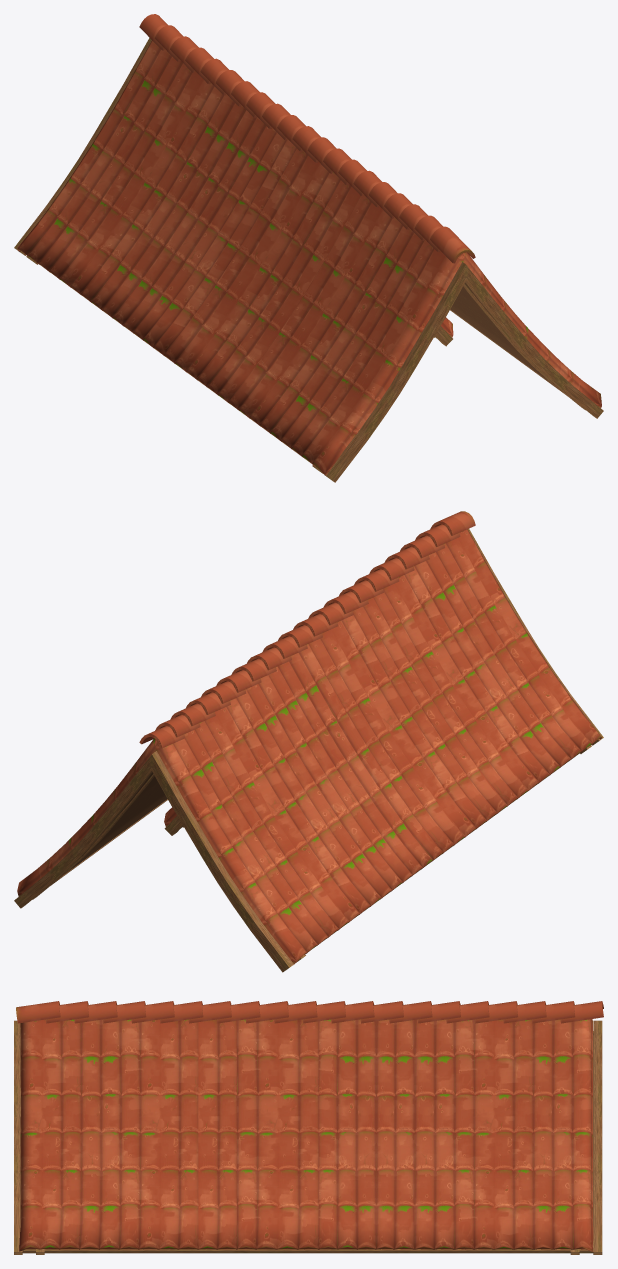
File: village.glb
The picture shows the model from 3 angles, top to bottom: view 1: azimuth 30°, elevation 25°; view 2: azimuth 150°, elevation 25°; view 3: azimuth 270°, elevation 25°; orthographic projection. The views are drawn at different scales.
Visible parts, largest first — view 1: Roof_RoundTiles_6x14; view 2: Roof_RoundTiles_6x14; view 3: Roof_RoundTiles_6x14.
Part boxes in pixels (bbox=[...]): Roof_RoundTiles_6x14: bbox=[14, 14, 603, 482]; Roof_RoundTiles_6x14: bbox=[14, 511, 603, 972]; Roof_RoundTiles_6x14: bbox=[14, 1001, 603, 1254].
Size of the model in its own units: 8.25 by 7.01 by 15.71.
9 materials, 8 textured.
